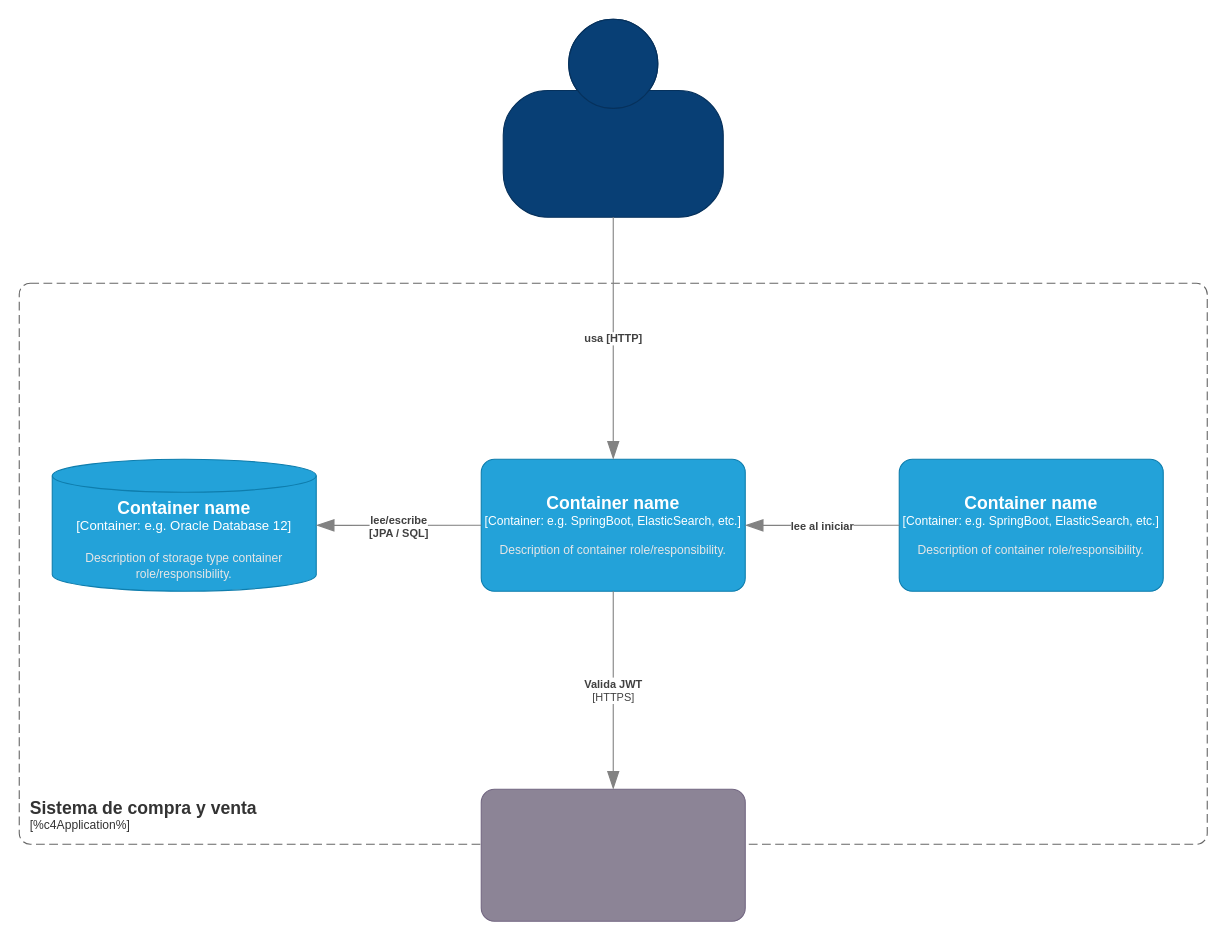
The diagram is 1227 pixels wide and 941 high, and some of its shapes have lost their labels. The shapes that lost their labels are listed below. From the top down, each one's box as (x1, y1, x2, y2) in pixels, then its label:
(502, 18, 723, 217): API client [Persona] Postman/HTTP
(480, 788, 745, 921): External system name [Software System] Description of external software system.
